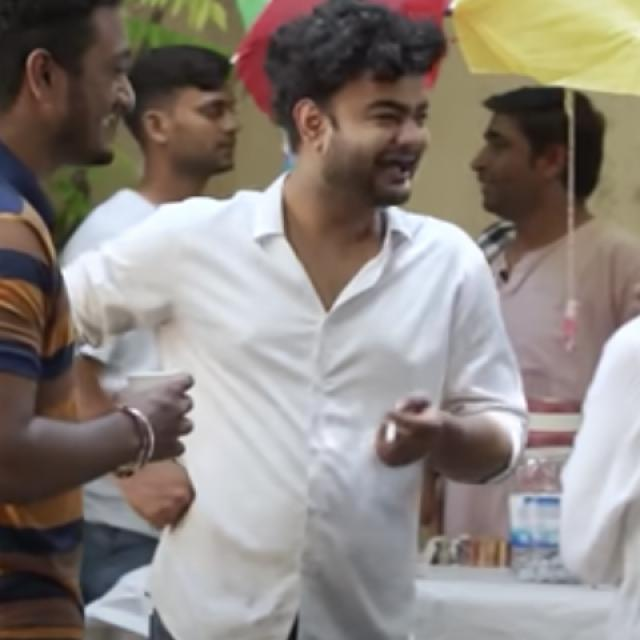smoke: (376, 406, 416, 469)
